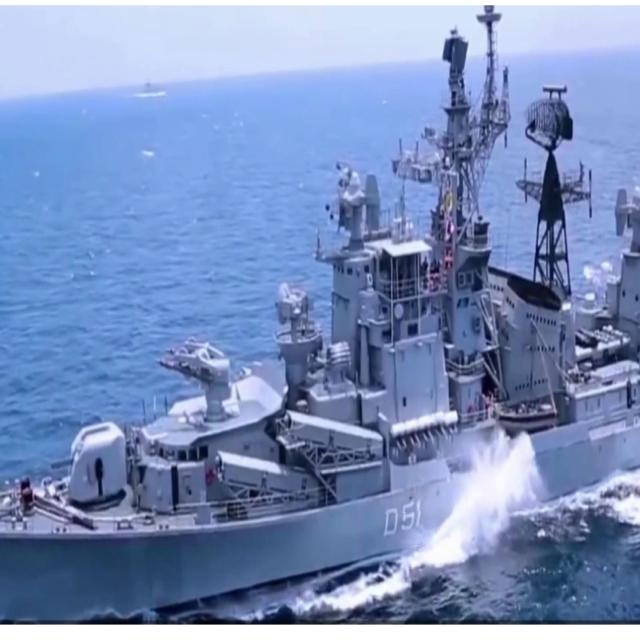OCR: (377, 497, 423, 548)
